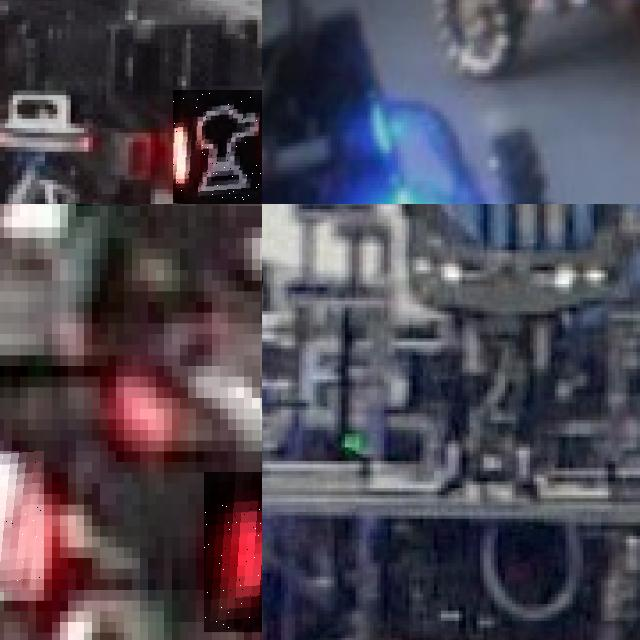R3: (204, 472, 262, 632), (0, 451, 44, 600)
Rs: (172, 90, 262, 203)
